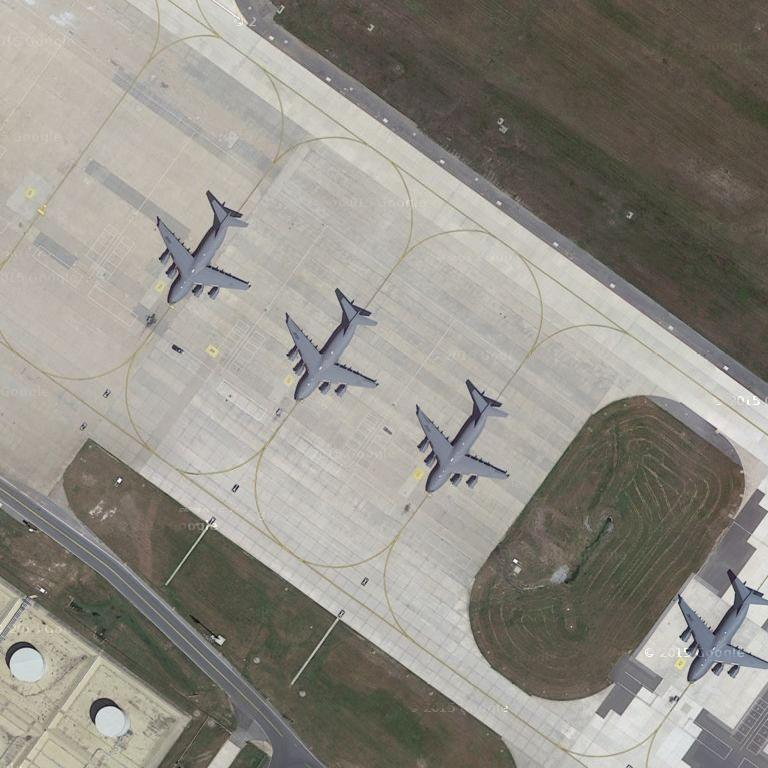C-17: (145, 190, 256, 313), (411, 377, 509, 500), (278, 292, 384, 403), (672, 566, 768, 681)
